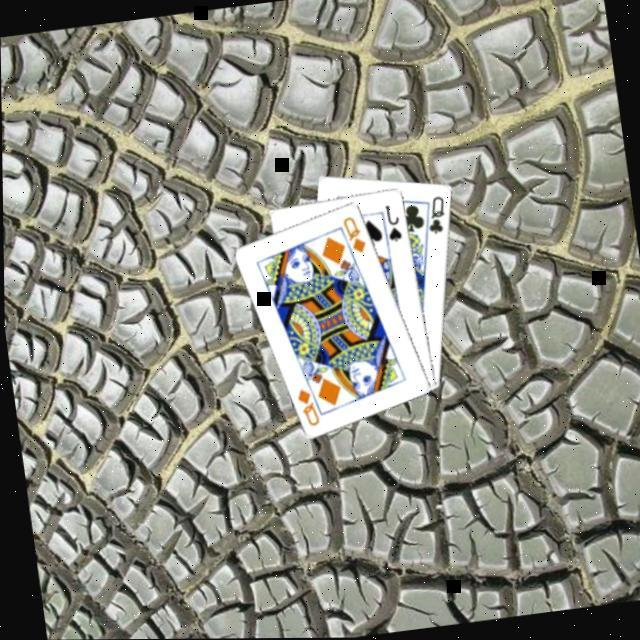JS: (378, 200, 403, 244)
QC: (418, 191, 448, 236)
QD: (336, 211, 368, 256), (289, 382, 319, 429)
